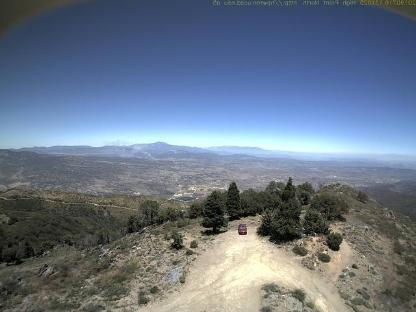smoke: (104, 138, 162, 162)
